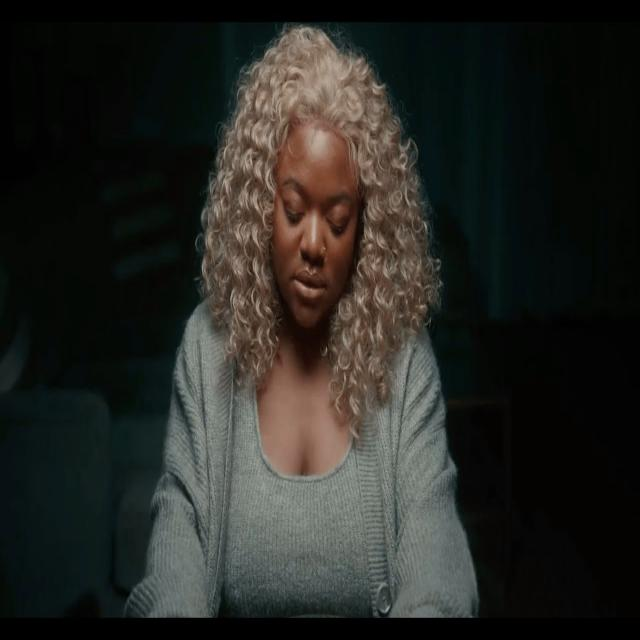adult: (127, 24, 480, 619)
